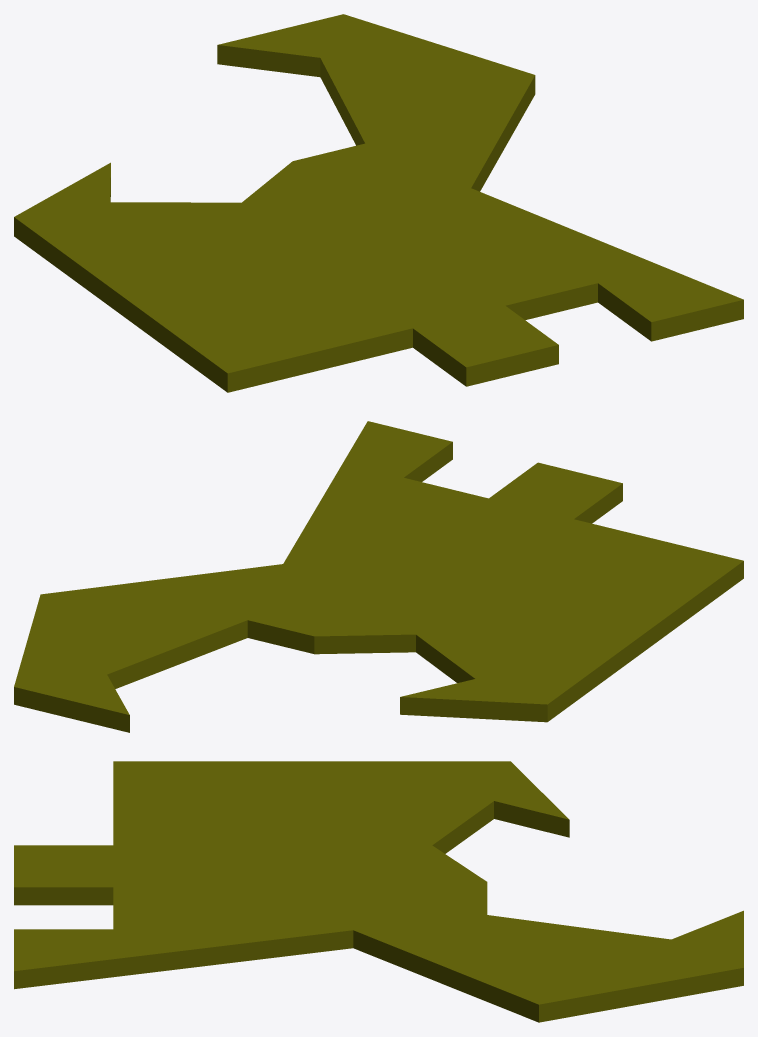
File: x_0_boloto_17_1_rmstrd.fbx
3 renders of one model, top to bottom at view 1: azimuth 30°, elevation 25°; view 2: azimuth 150°, elevation 25°; view 3: azimuth 270°, elevation 25°, orthographic. The views are drawn at different scales.
Parts seen in each view (by area): view 1: x_0_boloto_17_1_rmstrd1; view 2: x_0_boloto_17_1_rmstrd1; view 3: x_0_boloto_17_1_rmstrd1.
Part boxes in pixels (x1,y1,x2,y2): x_0_boloto_17_1_rmstrd1: (14,14,743,392); x_0_boloto_17_1_rmstrd1: (14,421,743,732); x_0_boloto_17_1_rmstrd1: (14,761,743,1022).
Bounding box in the file's own units: 5.8 × 0.2 × 7.35.
